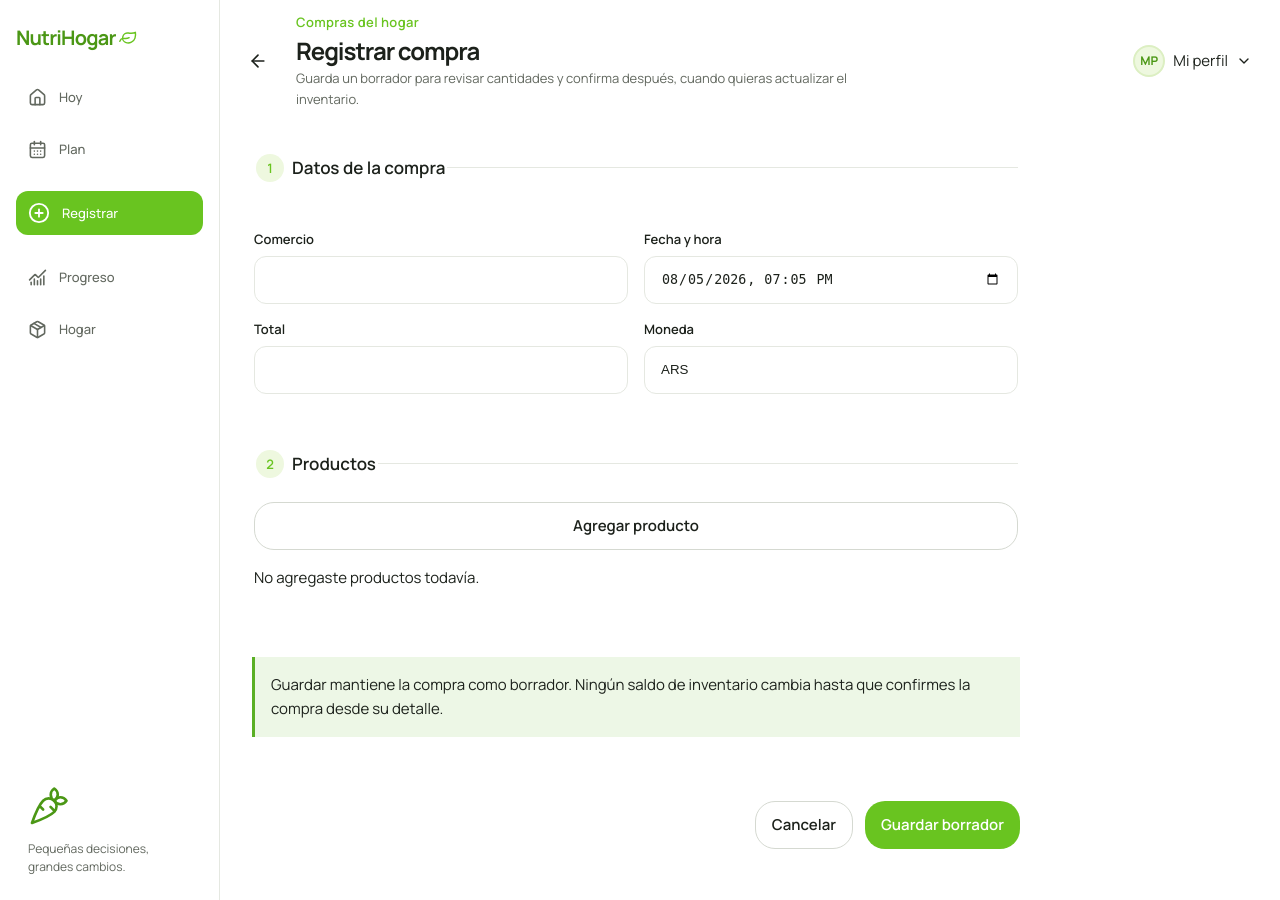
Test: Purchase pages › shows the empty product validation in a new purchase
Type "Mercado" into the field labelled "Comercio" at (441, 280), box [254, 256, 628, 304]
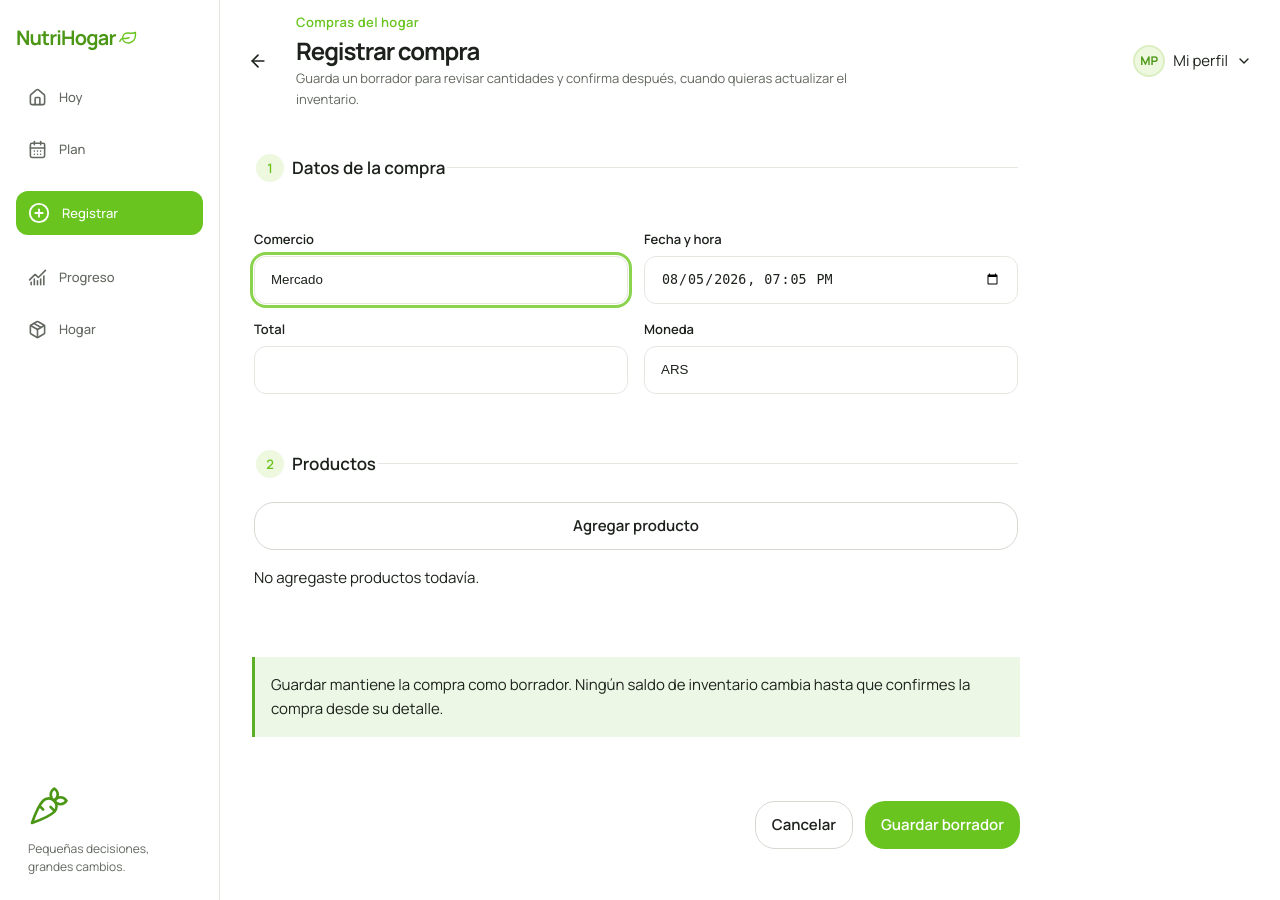
Type "100" into the number field labelled "Total" at (441, 370), box [254, 346, 628, 394]
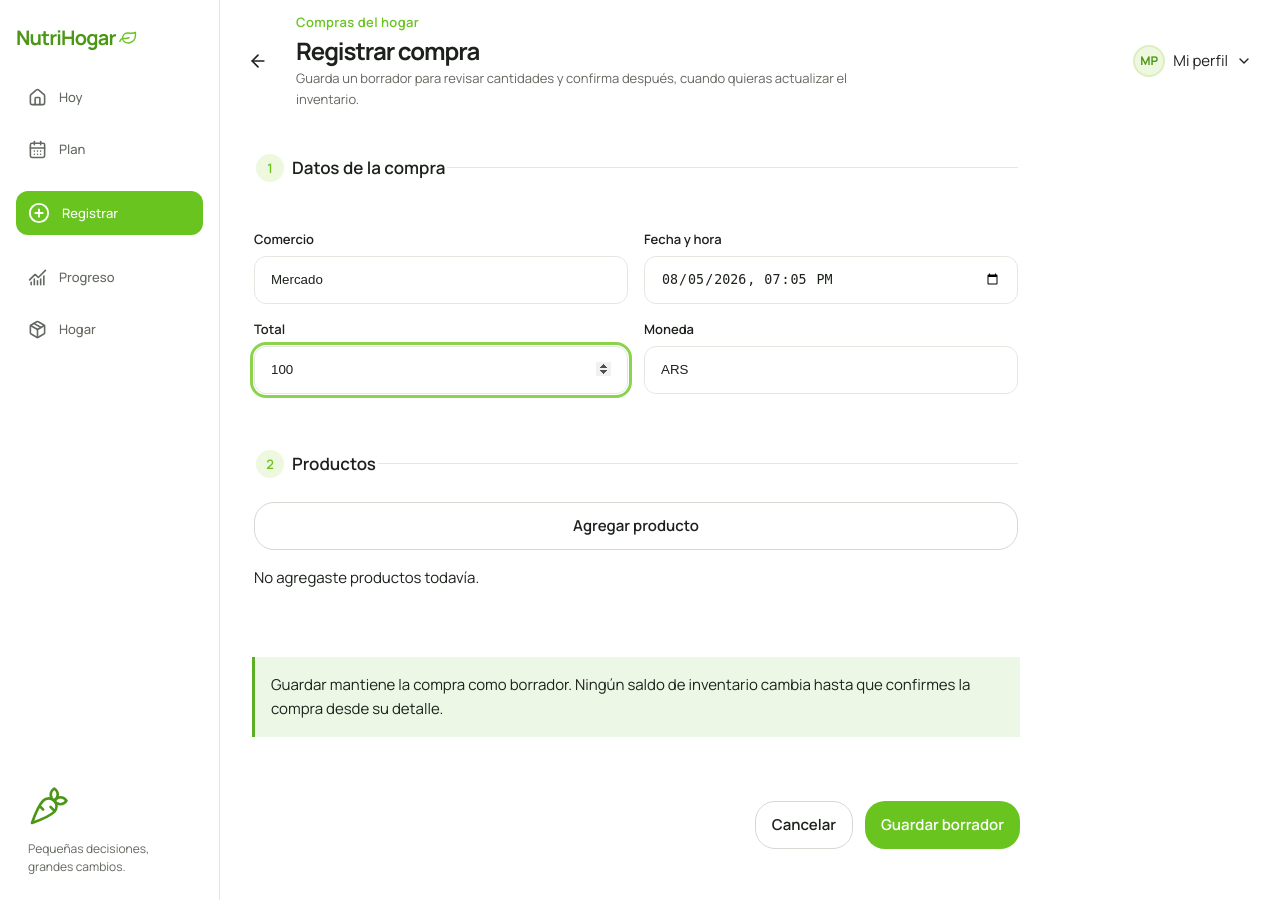
Click the button "Guardar borrador" at (942, 825), box [865, 801, 1020, 849]
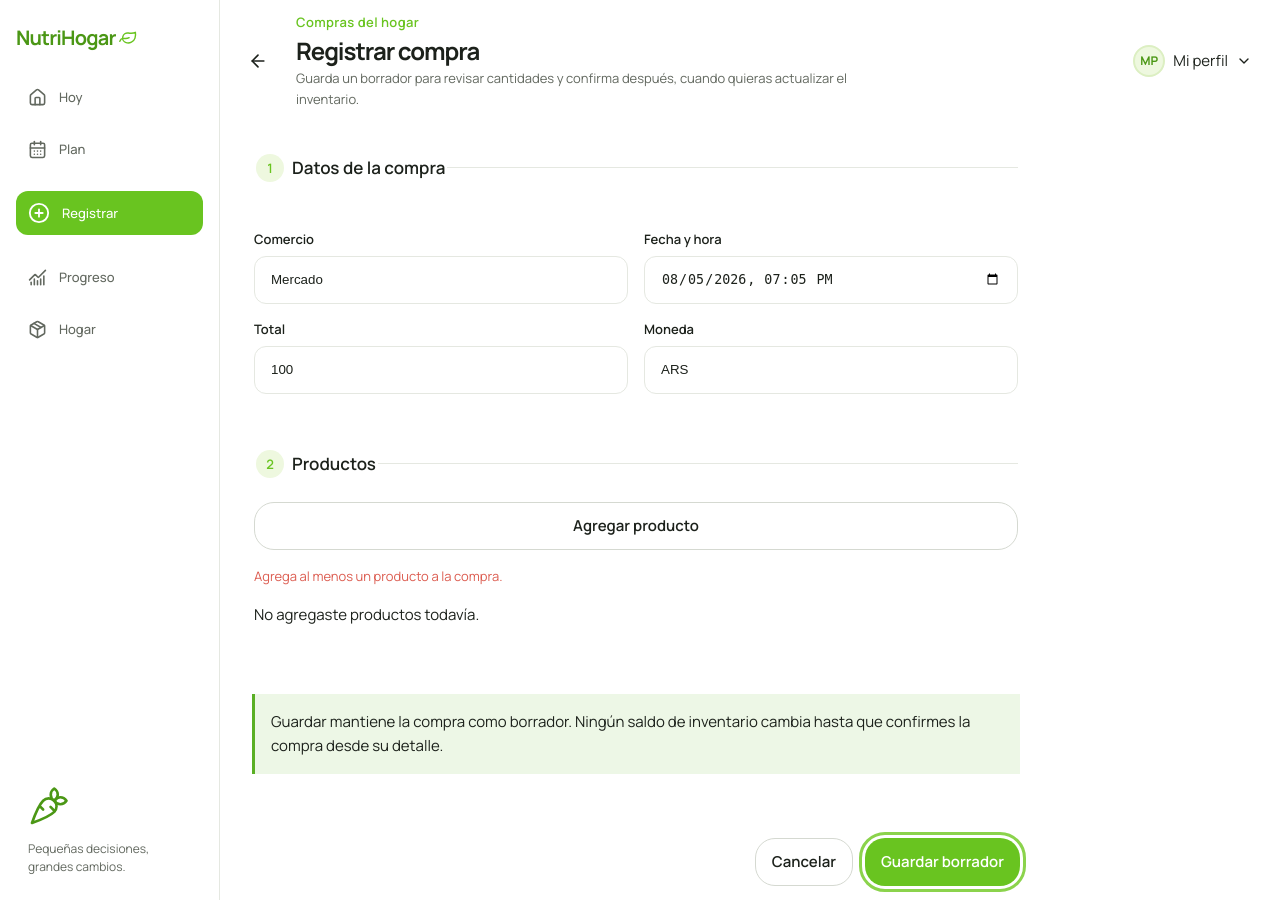
Check: the text "Agrega al menos un producto a la compra." is shown, box [254, 567, 502, 585]
